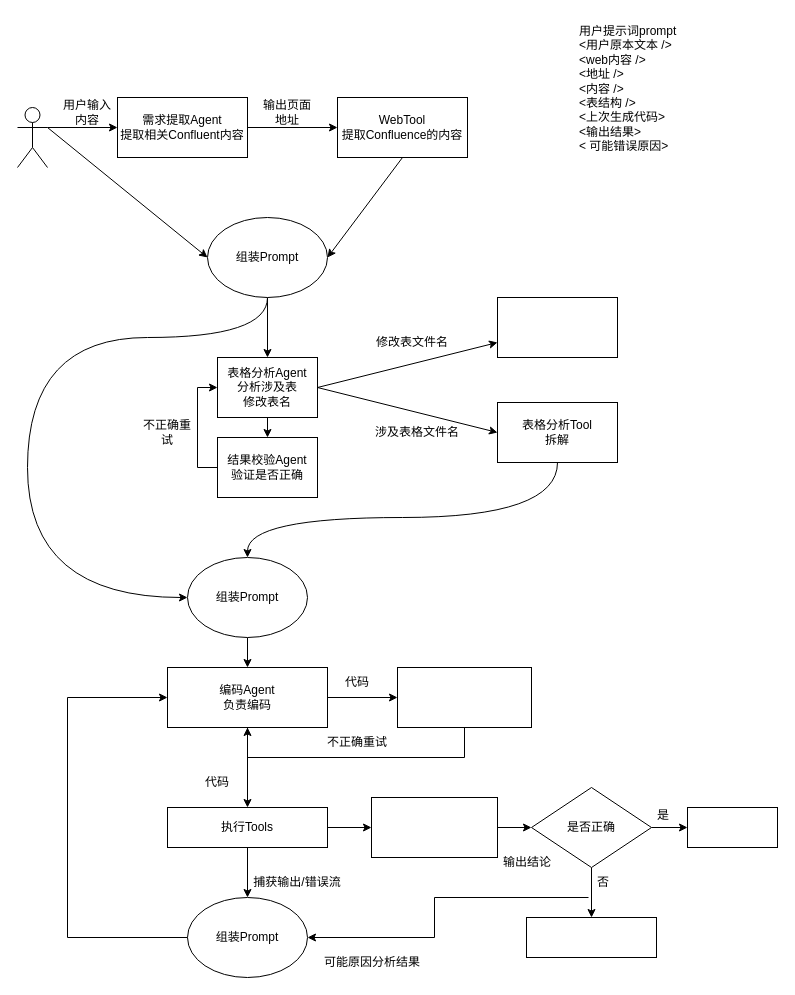
Image size: 795x995. Some labels were removed from this diagram. Here are the shapes that lost their labels. From the top down, the box of each, then its label:
(16, 106, 48, 168): 用户
(496, 296, 618, 358): 备份表
(396, 666, 532, 728): 编码结果校验
(370, 796, 498, 858): 执行结果分析Agent
(686, 806, 778, 848): 结束/清除备份
(526, 916, 656, 958): 备份恢复Tools
